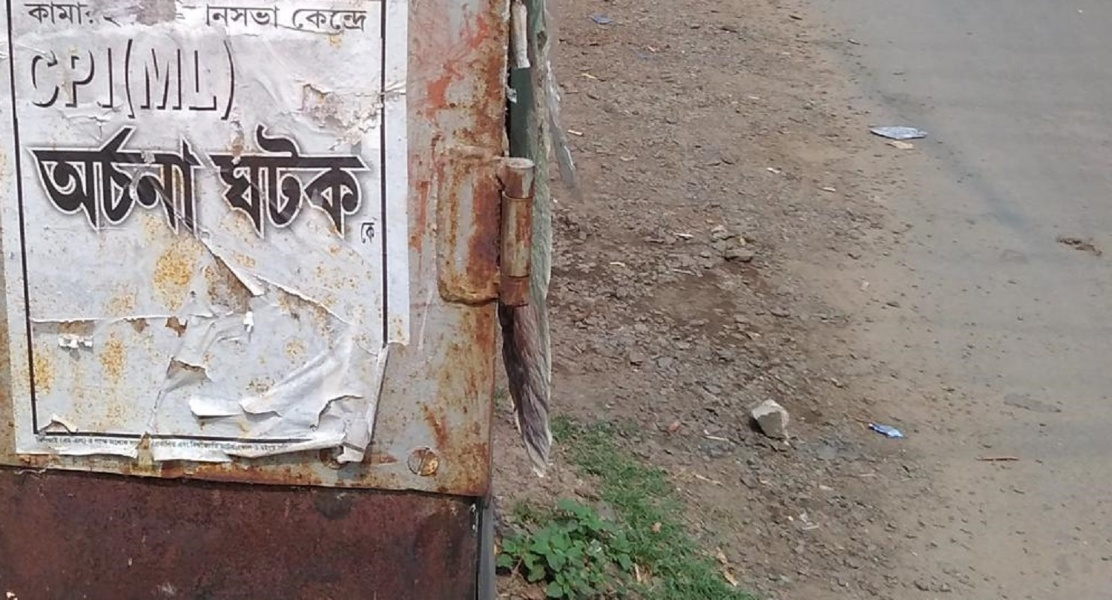text: (209, 109, 224, 244), (225, 109, 240, 244), (241, 109, 256, 244), (257, 109, 272, 244), (273, 109, 288, 244), (289, 109, 304, 244), (305, 109, 320, 244), (321, 109, 336, 244), (337, 109, 352, 244), (353, 109, 368, 244), (33, 114, 48, 243), (49, 114, 64, 243), (65, 114, 80, 243), (81, 114, 96, 243), (97, 114, 112, 243), (113, 114, 128, 243), (129, 114, 144, 243), (145, 114, 160, 243), (161, 114, 176, 243), (177, 114, 192, 243), (193, 114, 208, 243), (369, 109, 382, 244), (33, 33, 48, 126), (49, 33, 64, 126), (65, 33, 80, 126), (81, 33, 96, 126), (97, 33, 112, 126), (113, 33, 128, 126), (145, 33, 160, 124), (161, 33, 176, 124), (177, 33, 192, 124), (193, 33, 208, 124), (209, 33, 224, 124), (225, 33, 240, 124), (129, 33, 140, 126), (201, 109, 208, 244), (25, 114, 32, 243), (24, 33, 32, 126), (137, 33, 144, 124), (305, 4, 320, 34), (321, 4, 336, 34), (337, 4, 352, 34), (353, 4, 368, 34), (33, 1, 48, 30), (49, 1, 64, 30), (65, 1, 80, 30), (81, 1, 96, 30), (97, 1, 112, 30), (209, 3, 224, 32), (225, 3, 240, 32), (241, 3, 256, 32), (257, 3, 272, 32), (273, 3, 287, 32), (113, 1, 125, 30), (293, 4, 304, 34), (369, 222, 379, 250), (23, 1, 32, 30), (201, 3, 208, 32), (362, 222, 368, 250), (369, 4, 373, 34), (241, 33, 242, 124)
